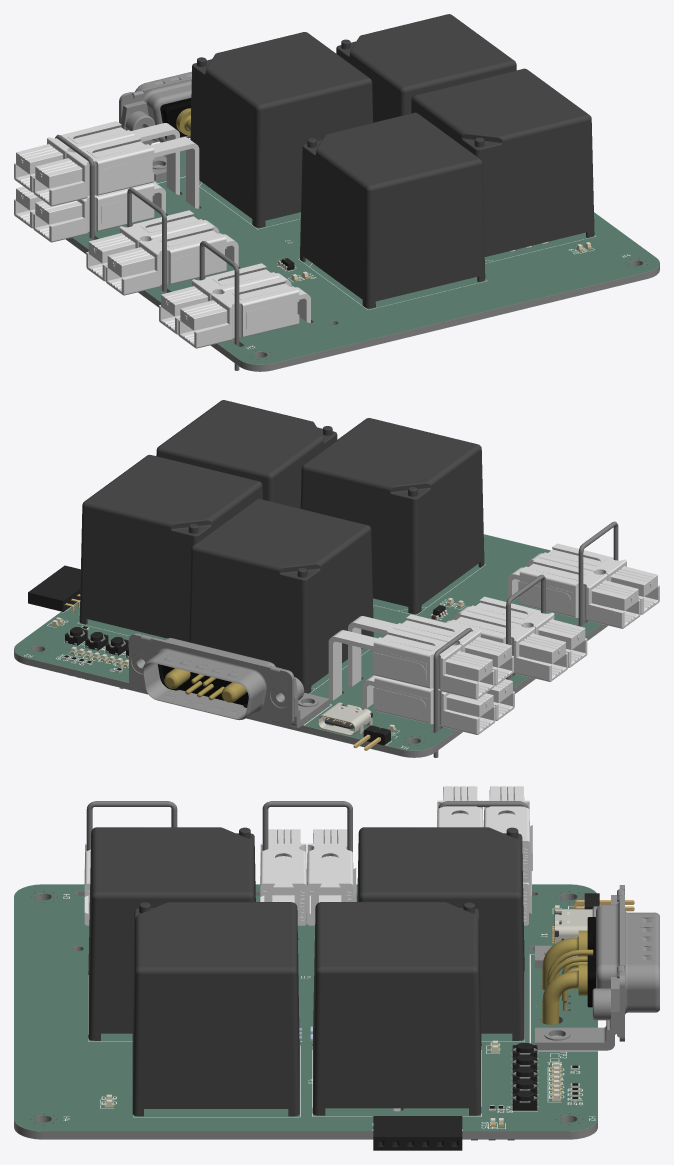
File: MechanicalRelaySally.glb
3 views of the same model, one above another, from view 1: azimuth 30°, elevation 25°; view 2: azimuth 150°, elevation 25°; view 3: azimuth 270°, elevation 25° (orthographic). The views are drawn at different scales.
Visible parts, largest first — view 1: Cover_Standard_Sealed:1 (×4), =>[0:1:1:48], =>[0:1:1:47], U1 (×4), U8 (×2), U2 (×2), =>[0:1:1:2], =>[0:1:1:46]; view 2: Cover_Standard_Sealed:1 (×4), U1 (×4), =>[0:1:1:48], =>[0:1:1:47], =>[0:1:1:2], U8 (×2), U2 (×2), J3, J1, =>[0:1:1:46], J2; view 3: Cover_Standard_Sealed:1 (×4), =>[0:1:1:48], =>[0:1:1:47], =>[0:1:1:2], U2 (×2), U1 (×2), J3, =>[0:1:1:46], J1.
Part boxes in pixels (x1,y1,x2,y2): Cover_Standard_Sealed:1 (×4): [190, 14, 594, 308]; =>[0:1:1:48]: [66, 150, 659, 371]; =>[0:1:1:47]: [67, 150, 659, 371]; U1 (×4): [14, 121, 199, 242]; U8 (×2): [159, 263, 310, 348]; U2 (×2): [86, 210, 238, 295]; =>[0:1:1:2]: [119, 71, 191, 180]; =>[0:1:1:46]: [154, 176, 630, 349]; Cover_Standard_Sealed:1 (×4): [79, 400, 484, 693]; U1 (×4): [328, 614, 514, 734]; =>[0:1:1:48]: [14, 535, 607, 757]; =>[0:1:1:47]: [14, 534, 605, 757]; =>[0:1:1:2]: [129, 633, 329, 727]; U8 (×2): [507, 543, 659, 628]; U2 (×2): [445, 596, 587, 681]; J3: [28, 565, 80, 612]; J1: [317, 702, 372, 735]; =>[0:1:1:46]: [24, 564, 485, 749]; J2: [353, 725, 391, 750]; Cover_Standard_Sealed:1 (×4): [88, 827, 524, 1116]; =>[0:1:1:48]: [14, 885, 597, 1139]; =>[0:1:1:47]: [14, 884, 597, 1139]; =>[0:1:1:2]: [535, 885, 659, 1050]; U2 (×2): [260, 829, 356, 925]; U1 (×2): [437, 786, 532, 882]; J3: [373, 1116, 462, 1150]; =>[0:1:1:46]: [63, 894, 597, 1130]; J1: [552, 909, 592, 943].
Size of the model in its own units: 0.1142 by 0.0342 by 0.1106.
